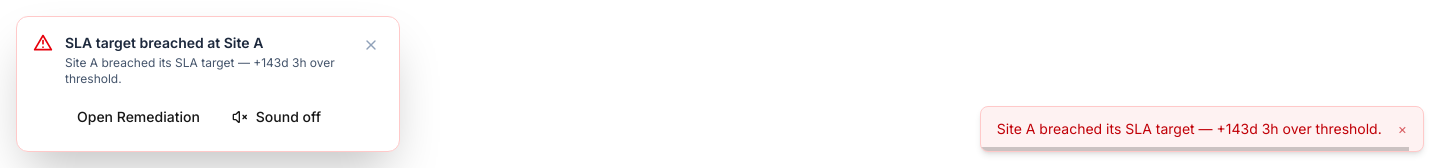
Test: BreachToast › toggles the alert sound preference and can be dismissed
The width and height of the screenshot is (1440, 168).
Click the button with aria-label "Enable breach alert sound" at (276, 117), box [220,99,333,135]
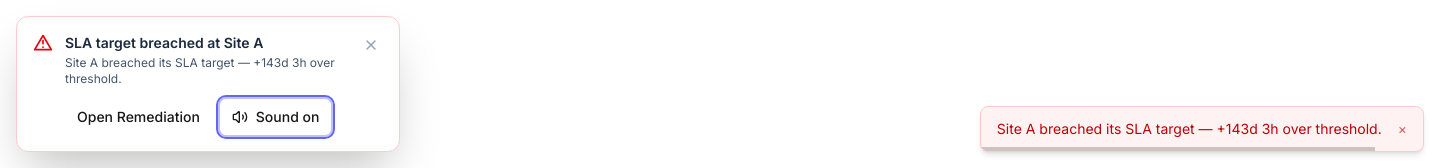
Click the button named "Dismiss SLA breach alert" at (371, 45), box [359,33,383,57]
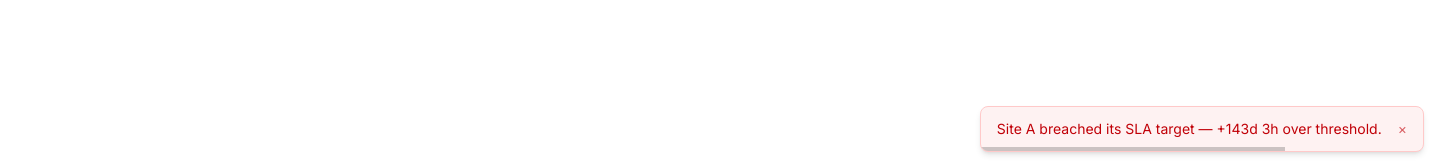
Expected: the message is gone
